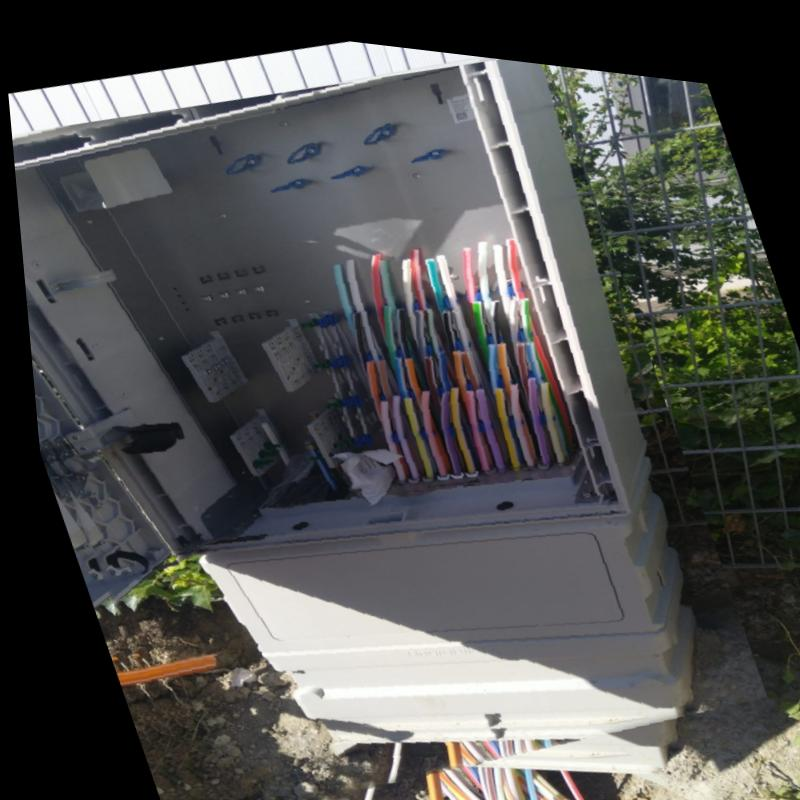NT-Gehause: (10, 46, 686, 743)
